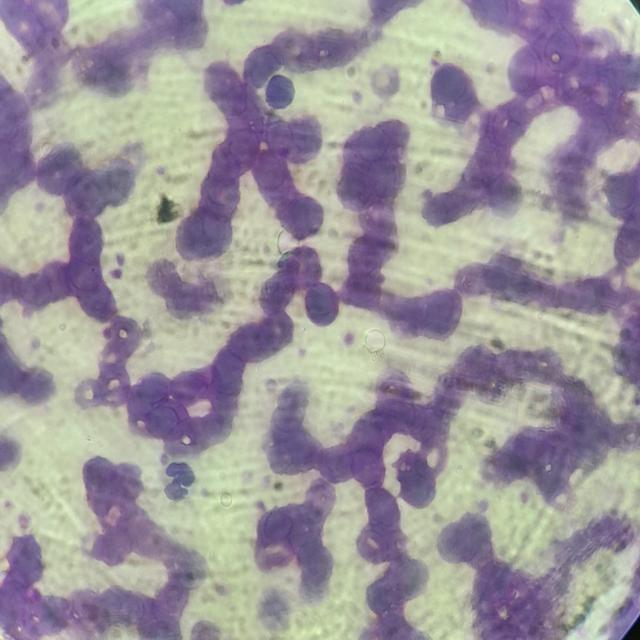Neutrofilo: (162, 461, 197, 501)
